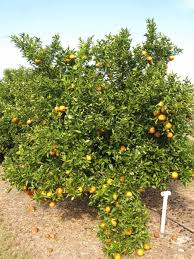orange: (57, 105, 66, 112), (159, 115, 166, 121)
